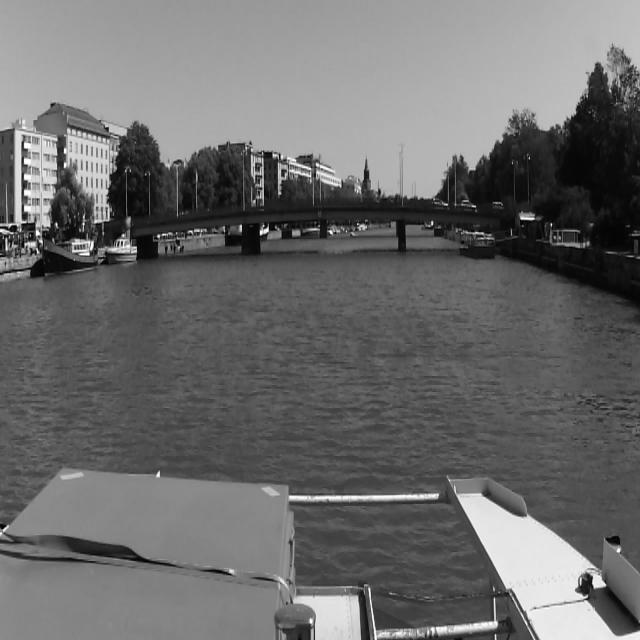ship: (41, 219, 99, 280), (105, 232, 138, 267)
